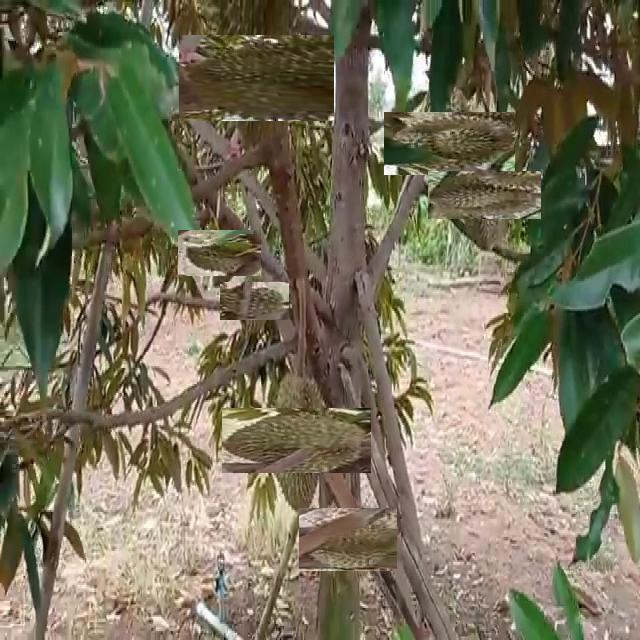durian: (195, 18, 317, 138), (243, 387, 350, 495), (401, 95, 499, 192), (443, 154, 525, 236), (308, 498, 388, 580), (187, 221, 252, 286), (227, 274, 281, 328)
